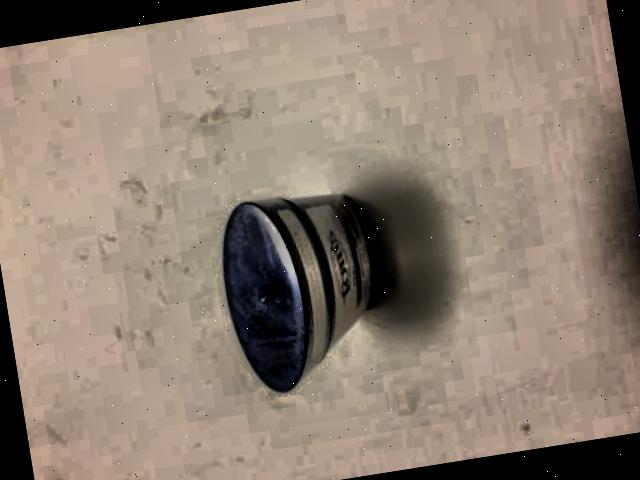Plastic: (178, 144, 432, 439)
